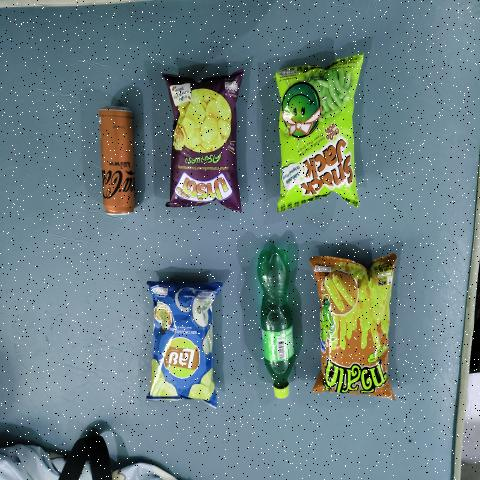coke_red: (100, 104, 134, 218)
fanta_green: (257, 248, 291, 403)
lay_blue: (150, 286, 217, 402)
party_purple: (175, 84, 233, 208)
snack_jack: (270, 57, 366, 213)
twisco: (310, 251, 399, 408)
